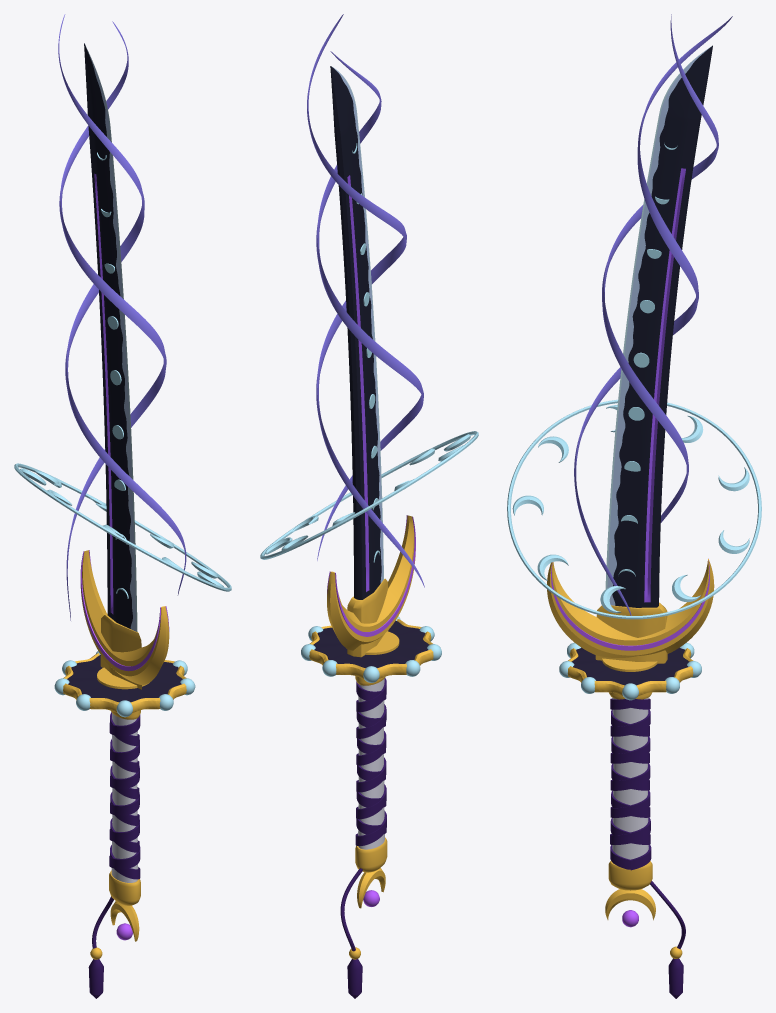
Rendered from KingOfTheNineMoons.obj.
3 views of the same model, side by side, from view 1: azimuth 30°, elevation 25°; view 2: azimuth 150°, elevation 25°; view 3: azimuth 270°, elevation 25° (orthographic).
Parts seen in each view (by area): view 1: Blade, MoonAura, Ito, MoonGuard, MoonHalo, Tsuba, Hamon, GuardRim, Tsuka, Kashira, Vein, Habaki (+4 smaller); view 2: Blade, MoonAura, Ito, MoonGuard, MoonHalo, Tsuba, GuardRim, Tsuka, Vein, Kashira, Hamon, Habaki (+3 smaller); view 3: Blade, MoonAura, Ito, MoonHalo, MoonGuard, Hamon, Tsuka, Vein, Tsuba, Habaki, Kashira, GuardRim (+4 smaller).
Boxes of the visible parts, x1,y1,x2,y2 form: Blade: [84, 43, 132, 628]; MoonAura: [58, 14, 186, 620]; Ito: [88, 712, 140, 998]; MoonGuard: [80, 550, 169, 685]; MoonHalo: [14, 463, 231, 591]; Tsuba: [67, 655, 182, 702]; Hamon: [86, 47, 136, 631]; GuardRim: [63, 653, 186, 712]; Tsuka: [111, 713, 138, 882]; Kashira: [90, 870, 140, 959]; Vein: [94, 173, 113, 614]; Habaki: [100, 613, 141, 689]; Blade: [330, 66, 381, 599]; MoonAura: [307, 14, 424, 587]; Ito: [340, 678, 386, 998]; MoonGuard: [327, 515, 415, 650]; MoonHalo: [260, 431, 478, 559]; Tsuba: [313, 621, 429, 668]; GuardRim: [309, 619, 433, 678]; Tsuka: [358, 678, 384, 849]; Vein: [347, 175, 369, 591]; Kashira: [349, 837, 387, 959]; Hamon: [332, 67, 383, 583]; Habaki: [347, 578, 388, 657]; Blade: [612, 45, 712, 607]; MoonAura: [574, 14, 732, 615]; Ito: [610, 698, 685, 998]; MoonHalo: [507, 399, 761, 619]; MoonGuard: [547, 559, 714, 657]; Hamon: [607, 46, 711, 605]; Tsuka: [612, 697, 648, 863]; Vein: [644, 168, 685, 602]; Tsuba: [571, 647, 689, 685]; Habaki: [595, 602, 667, 663]; Kashira: [605, 861, 682, 958]; GuardRim: [567, 648, 693, 696].
Bounding box in the file's own units: 1.4 × 7.33 × 1.71.
